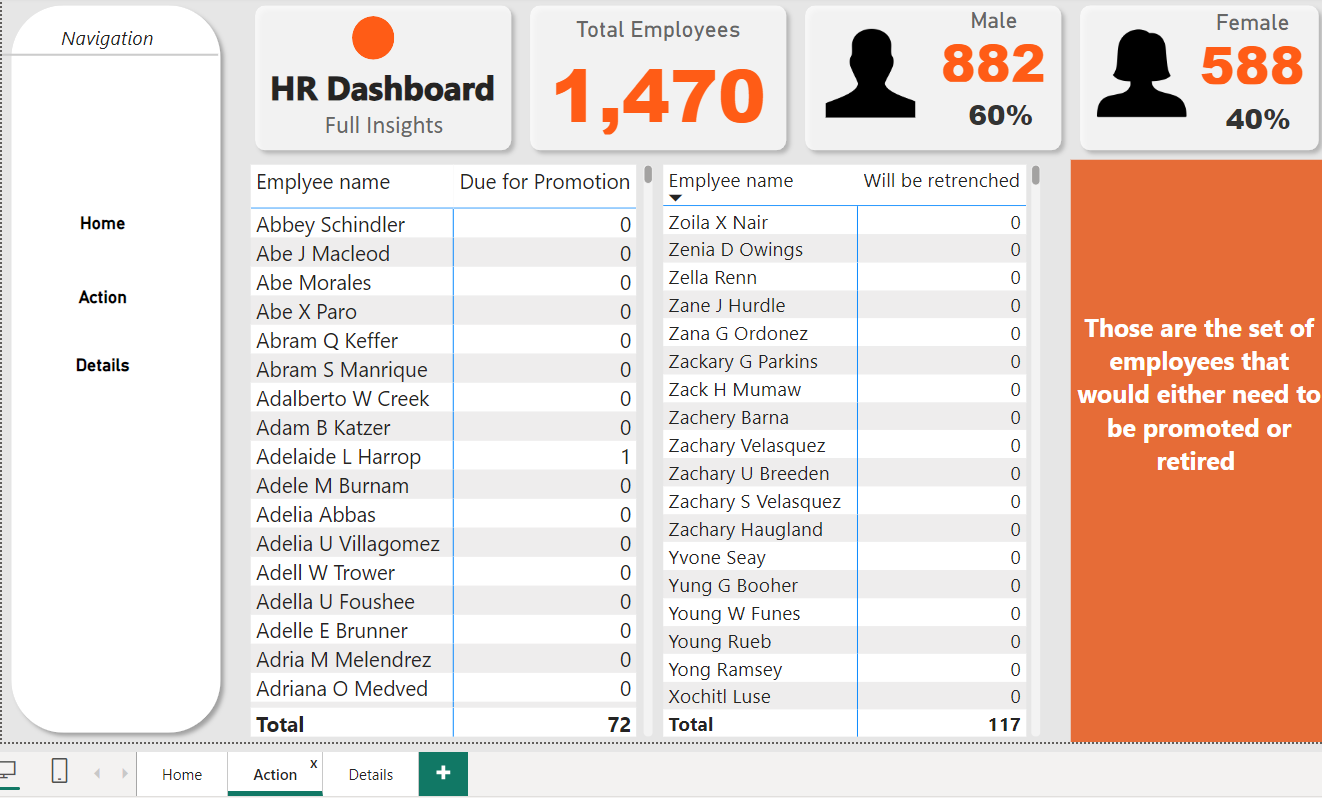

The dashboard page shown, as its layout file describes it:
{"tool":"powerbi","page":{"name":"Action","canvas":[1280,720],"ordinal":1},"visuals":[{"type":"shape","box":[0,0,220.5,720.5],"z":0},{"type":"shape","box":[500.5,0,265.3,158],"z":1000},{"type":"shape","box":[765.8,0,265.3,158],"z":2000},{"type":"shape","box":[1031.2,0,248.4,158],"z":3000},{"type":"shape","box":[235.2,0,265.3,158],"z":4000},{"type":"textbox","box":[291.9,103.7,153.2,42.2],"z":5000},{"type":"textbox","box":[249.6,61.5,235.2,53.1],"z":6000},{"type":"shape","box":[337.7,19.3,41,42.2],"z":7000},{"type":"card","title":"Total Employees","fields":{"Values":["All Measures.Total Emp"]},"box":[515,19.3,236.4,119.4],"z":8000},{"type":"card","title":"Male","fields":{"Values":["All Measures.Male"]},"box":[899.3,10.3,116.9,77.4],"z":9000},{"type":"card","title":"Male","fields":{"Values":["All Measures.% Male"]},"box":[910.6,88,106.1,55.5],"z":10000},{"type":"card","title":"Female","fields":{"Values":["All Measures.Female"]},"box":[1148,13.6,116.9,77.4],"z":11000},{"type":"card","title":"Male","fields":{"Values":["All Measures.% Female"]},"box":[1159.2,91.3,106.1,55.5],"z":12000},{"type":"image","box":[789.9,22.9,96.5,102.5],"z":13000},{"type":"image","box":[1051.7,24.1,96.5,101.3],"z":14000},{"type":"pivotTable","fields":{"Rows":["HR employee data.Emplyee name"],"Values":["All Measures.Due for Promotion"]},"box":[235.2,158,398,562],"z":15000},{"type":"pivotTable","fields":{"Rows":["HR employee data.Emplyee name"],"Values":["All Measures.Will be retrenched"]},"box":[633.2,158,373.9,562],"z":16000},{"type":"textbox","box":[1031,158,248,562],"z":17000},{"type":"textbox","box":[51.9,22.9,115.8,38.6],"z":18000},{"type":"actionButton","title":"Home","box":[63.9,208.4,88,55.4],"z":19000},{"type":"actionButton","title":"Details","box":[63.9,347,88,50.6],"z":20000},{"type":"shape","box":[0,33.8,208.6,45.8],"z":21000},{"type":"actionButton","title":"Action","box":[66.3,272.3,85.5,39.8],"z":22000},{"type":"shape","box":[47,272.3,19.3,20.5],"z":23000},{"type":"shape","box":[47,208.4,19.3,20.5],"z":24000},{"type":"shape","box":[47,347,19.3,20.5],"z":25000}]}

Visuals, with their boxes on the page's 1280x720 design canvas (x1, y1, x2, y2). These are canvas units, not pixel positions in the 1322x798 screenshot, which may show the page scaled, cropped or inside an application window:
shape: 0 0 220 720
shape: 500 0 766 158
shape: 766 0 1031 158
shape: 1031 0 1280 158
shape: 235 0 500 158
textbox: 292 104 445 146
textbox: 250 62 485 115
shape: 338 19 379 62
"Total Employees" card: 515 19 751 139
"Male" card: 899 10 1016 88
"Male" card: 911 88 1017 144
"Female" card: 1148 14 1265 91
"Male" card: 1159 91 1265 147
image: 790 23 886 125
image: 1052 24 1148 125
pivotTable - HR employee data.Emplyee name x All Measures.Due for Promotion: 235 158 633 720
pivotTable - HR employee data.Emplyee name x All Measures.Will be retrenched: 633 158 1007 720
textbox: 1031 158 1279 720
textbox: 52 23 168 62
"Home" actionButton: 64 208 152 264
"Details" actionButton: 64 347 152 398
shape: 0 34 209 80
"Action" actionButton: 66 272 152 312
shape: 47 272 66 293
shape: 47 208 66 229
shape: 47 347 66 368
